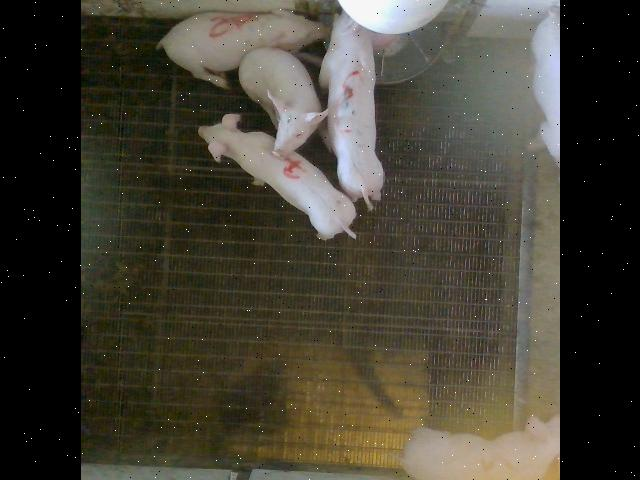pig-2: (400, 416, 559, 480)
pig-3: (319, 12, 382, 209)
pig-4: (198, 114, 355, 239)
pig-5: (156, 10, 329, 88)
